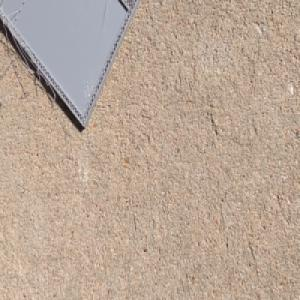PlasticPart: (0, 0, 141, 131)
